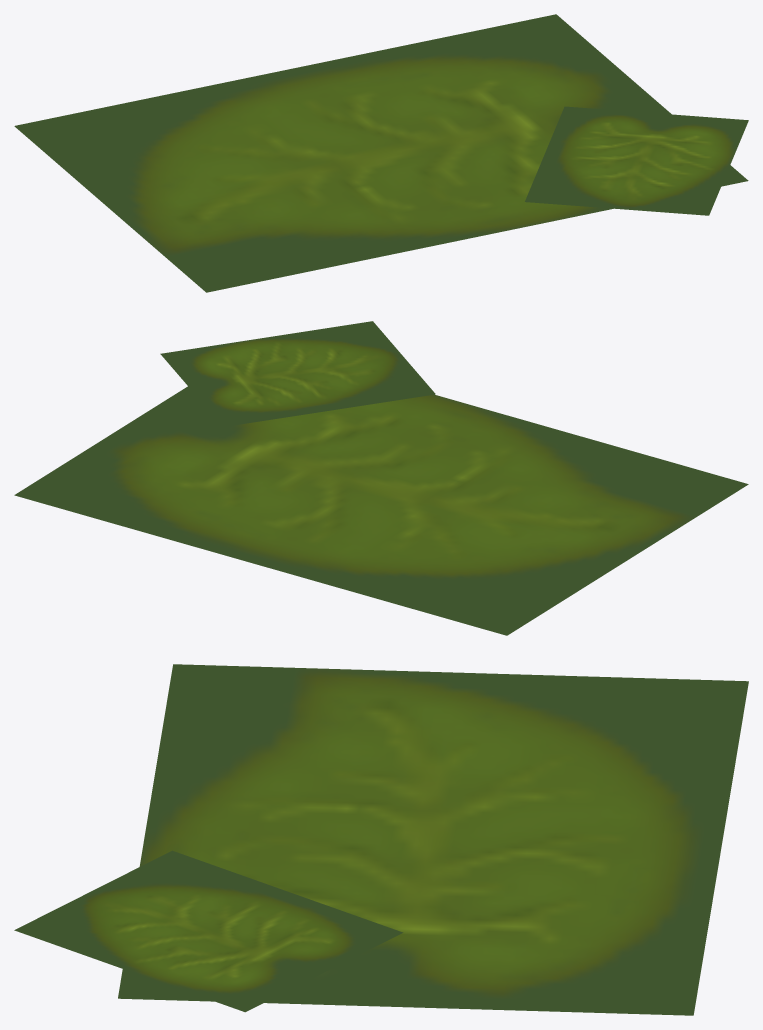
Rendered from Water_lily_07.FBX.
3 views of the same model, one above another, from view 1: azimuth 30°, elevation 25°; view 2: azimuth 150°, elevation 25°; view 3: azimuth 270°, elevation 25° (orthographic). The views are drawn at different scales.
Parts seen in each view (by area): view 1: Water_lily_07; view 2: Water_lily_07; view 3: Water_lily_07.
Boxes of the visible parts, x1,y1,x2,y2 form: Water_lily_07: [14, 14, 748, 292]; Water_lily_07: [14, 321, 748, 635]; Water_lily_07: [14, 664, 748, 1015].
Size of the model in its own units: 79.68 by 1.79 by 67.67.
